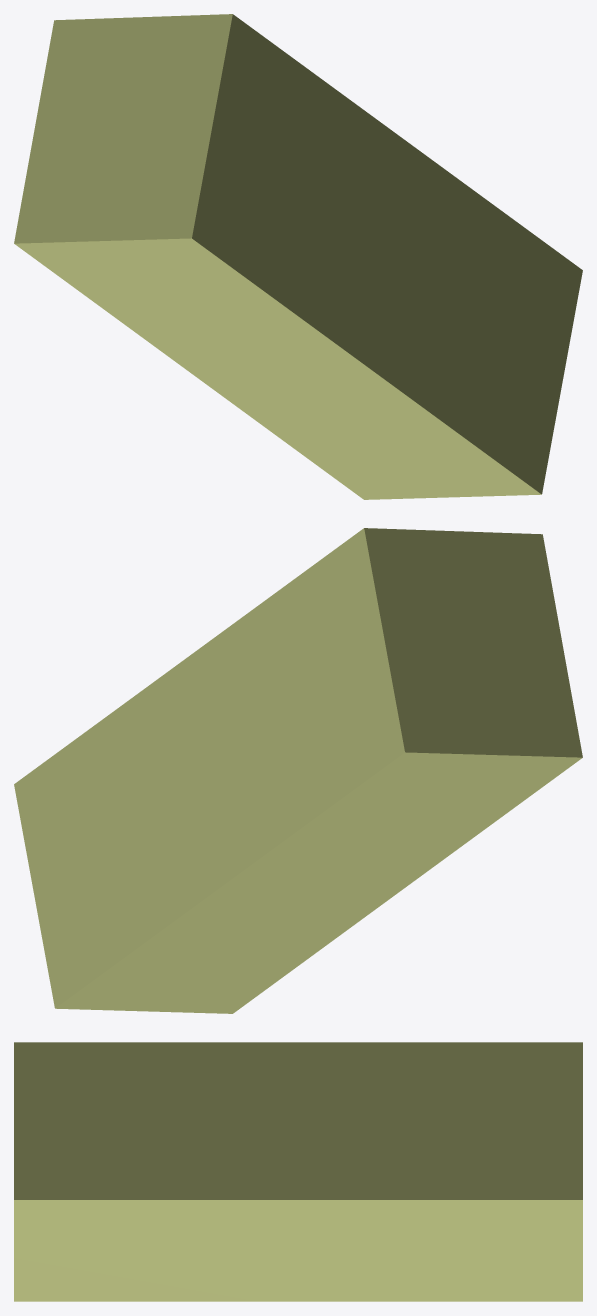
The picture shows the model from 3 angles, top to bottom: view 1: azimuth 30°, elevation 25°; view 2: azimuth 150°, elevation 25°; view 3: azimuth 270°, elevation 25°; orthographic projection. The views are drawn at different scales.
Visible parts, largest first — view 1: 0_1_2_0_3_3_2_1_0_2_0_2; view 2: 0_1_2_0_3_3_2_1_0_2_0_2; view 3: 0_1_2_0_3_3_2_1_0_2_0_2.
Boxes of the visible parts, x1,y1,x2,y2 form: 0_1_2_0_3_3_2_1_0_2_0_2: (14, 14, 582, 499); 0_1_2_0_3_3_2_1_0_2_0_2: (14, 528, 582, 1013); 0_1_2_0_3_3_2_1_0_2_0_2: (14, 1042, 582, 1301).
Bounding box in the file's own units: 2.17 × 2.38 × 6.
